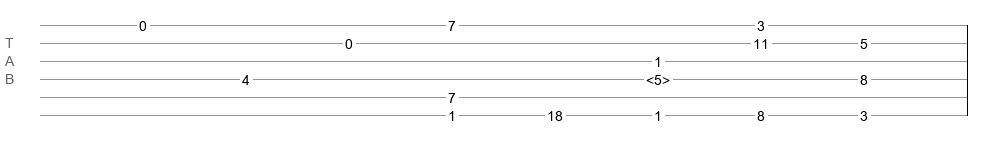0: (139, 18, 147, 28), (345, 36, 353, 46)
1: (448, 108, 456, 118), (654, 108, 662, 118), (654, 54, 662, 64)
11: (753, 36, 769, 46)
18: (547, 108, 563, 118)
3: (757, 18, 765, 28), (860, 108, 868, 118)
4: (242, 72, 250, 82)
5: (860, 36, 868, 46)
7: (448, 18, 456, 28), (448, 90, 456, 100)
8: (757, 108, 765, 118), (860, 72, 868, 82)
harmonic: (646, 72, 670, 82)
